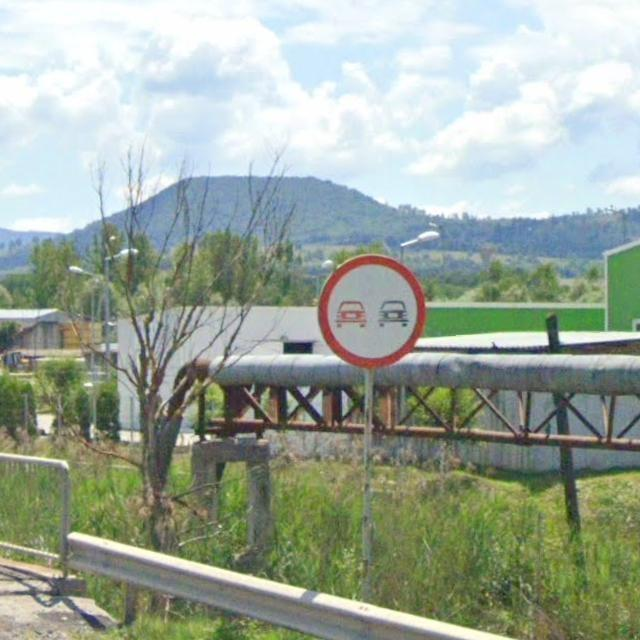forb_overtake: (315, 254, 428, 371)
